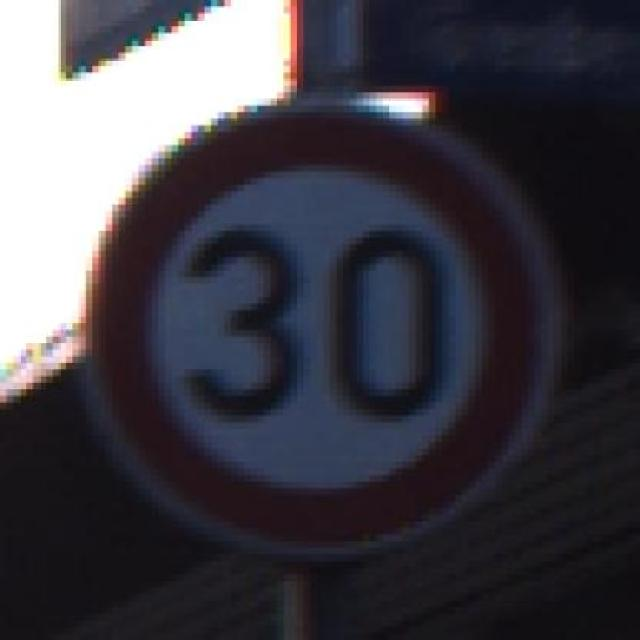Speed Limit 30 KMPh: (39, 92, 587, 574)
